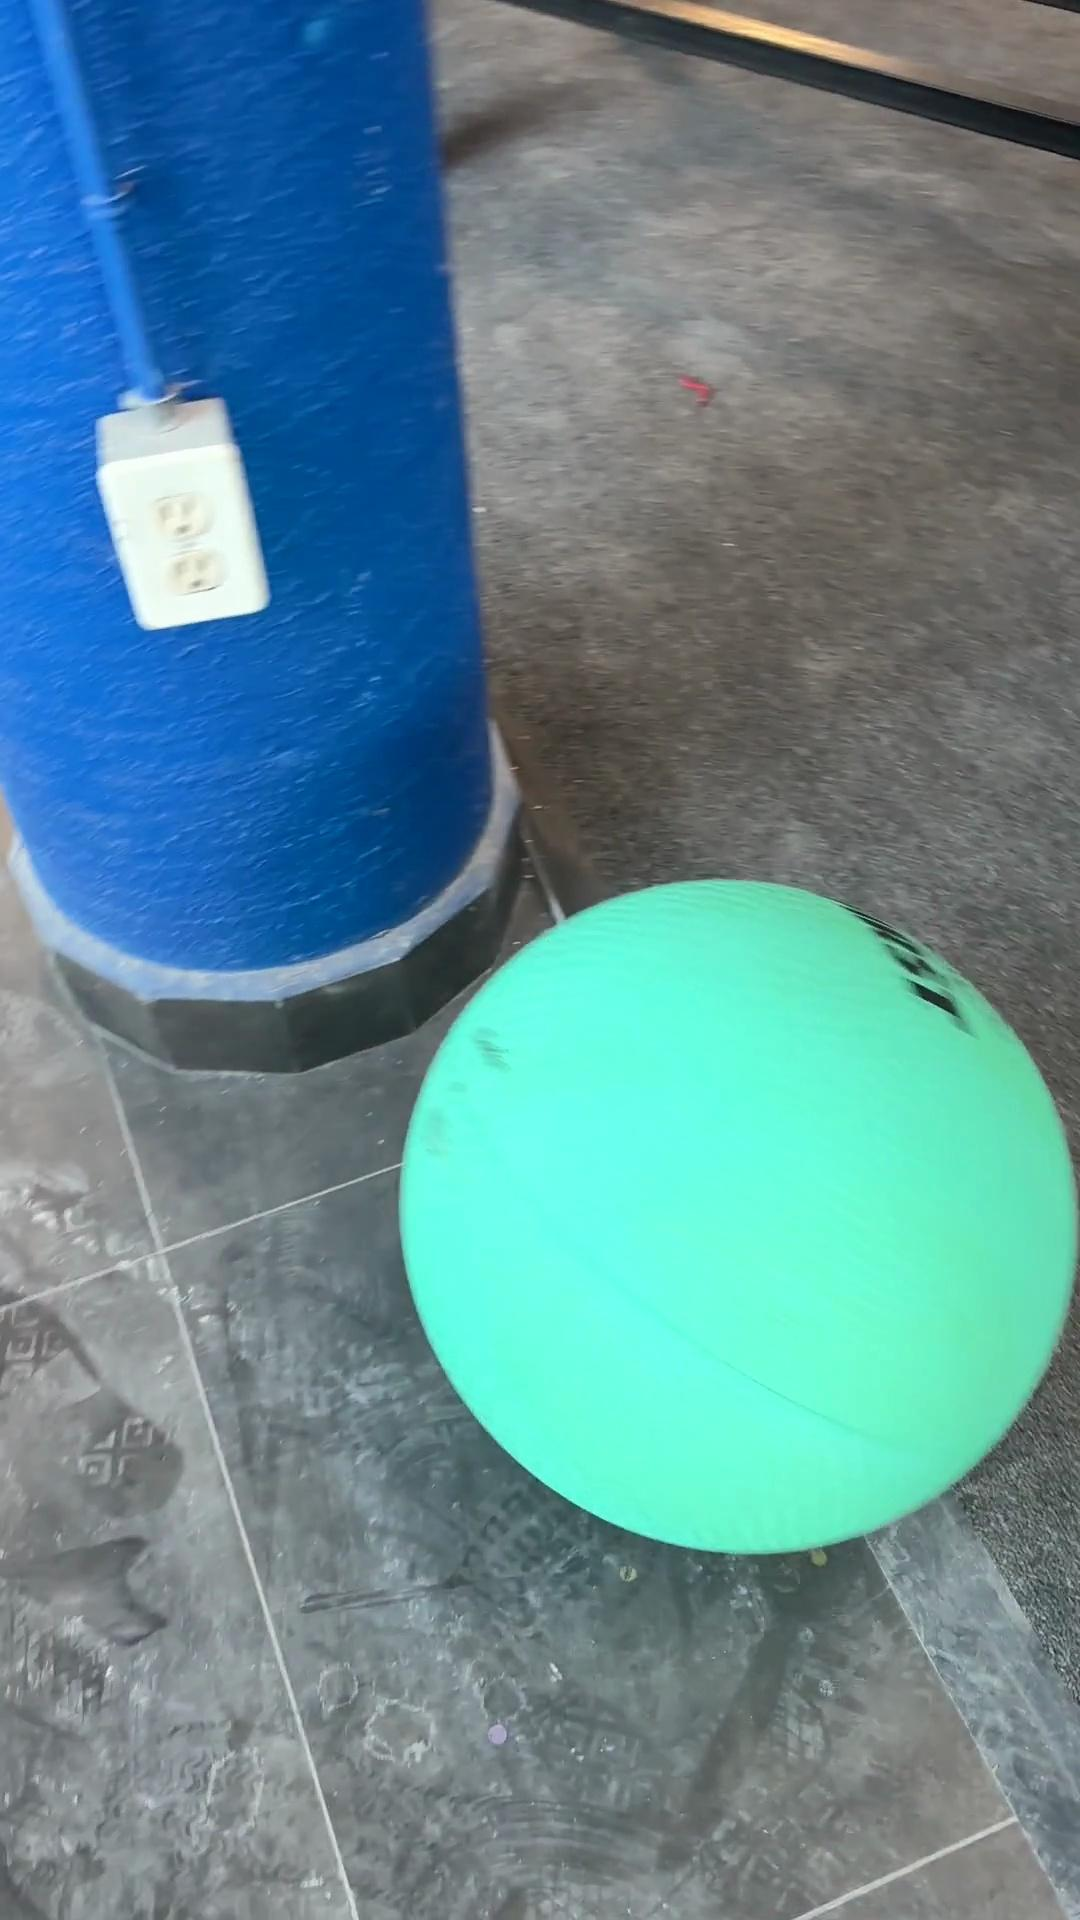ALGAE: (396, 872, 1076, 1557)
